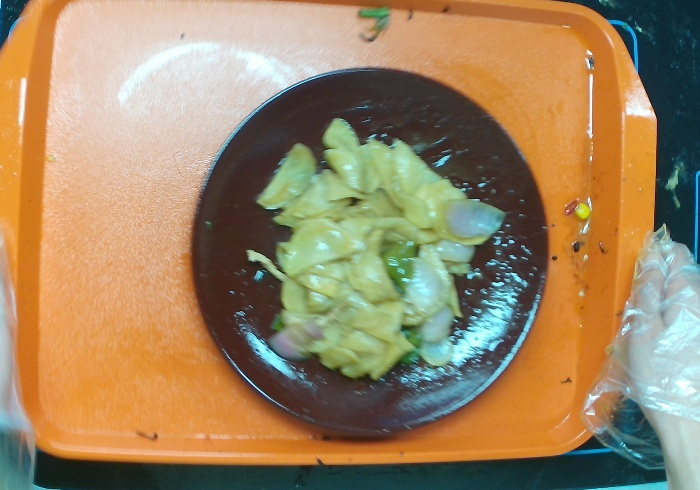HZYJPL-Ka_Fei_Yuan_Pan: (192, 68, 552, 440)
